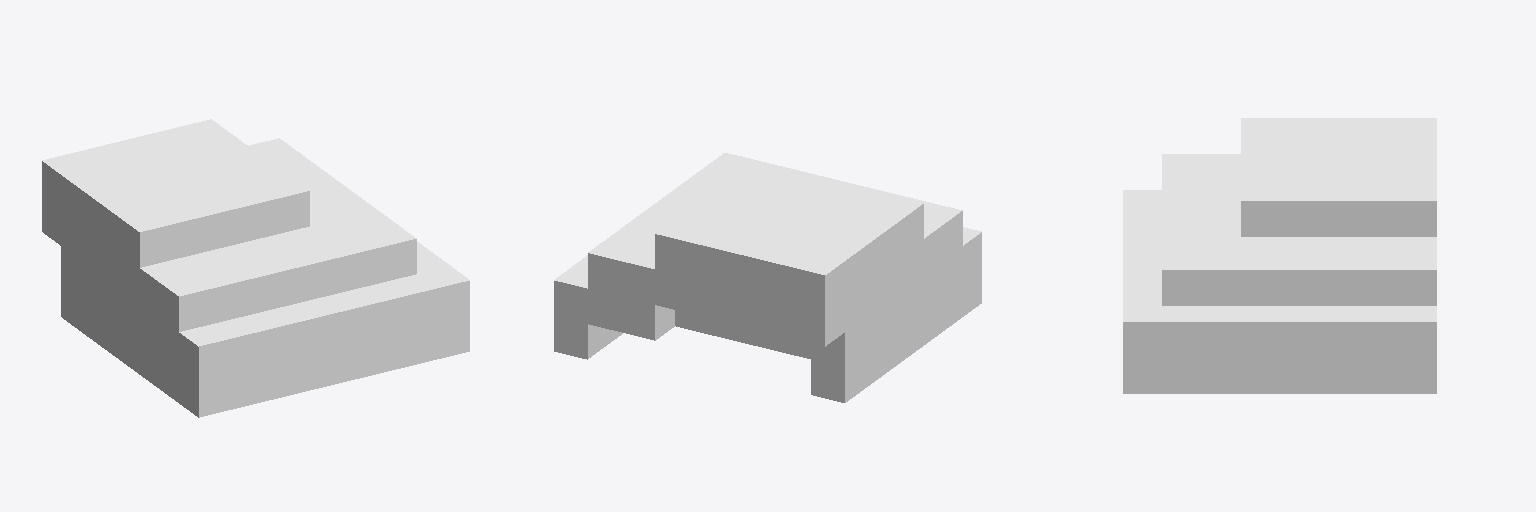
File: Hair1.obj
3 renders of one model, left to right at view 1: azimuth 30°, elevation 25°; view 2: azimuth 150°, elevation 25°; view 3: azimuth 270°, elevation 25°, orthographic.
Parts seen in each view (by area): view 1: object 1; view 2: object 1; view 3: object 1.
Part boxes in pixels (left/top/right/bottom): object 1: left=42, top=119, right=469, bottom=417; object 1: left=554, top=153, right=981, bottom=402; object 1: left=1123, top=118, right=1436, bottom=393.
Bounding box in the file's own units: 0.8 × 0.4 × 0.8.